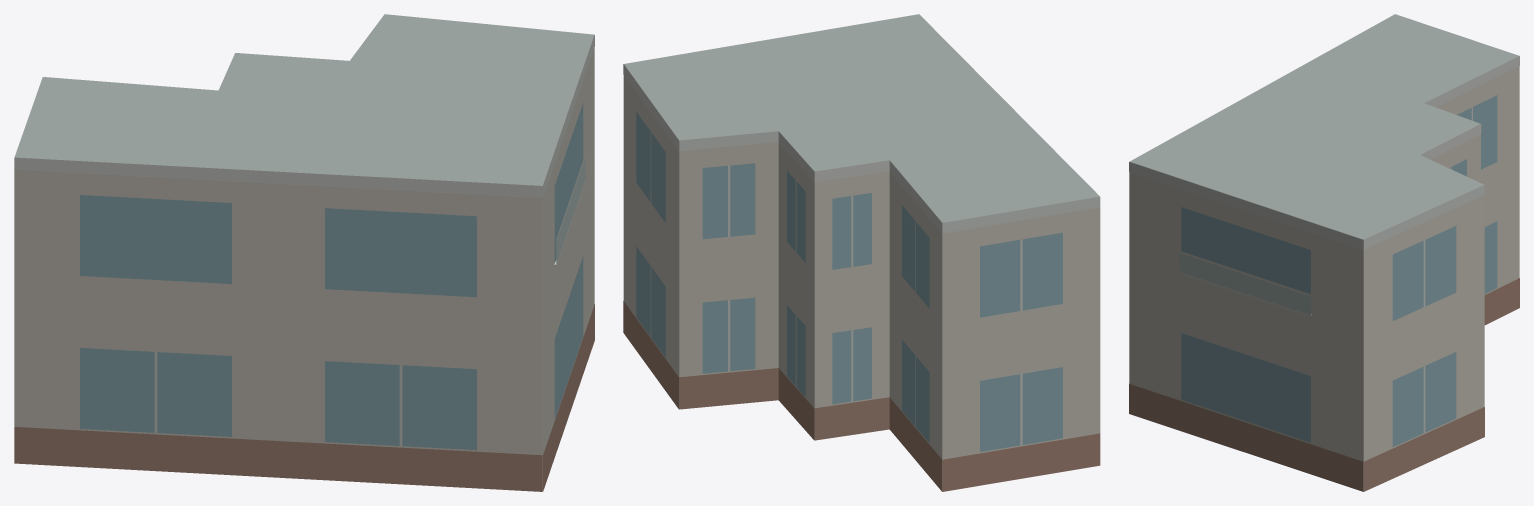
The model's file is survey-upis-32819702.glb.
The picture shows the model from 3 angles, left to right: view 1: azimuth 30°, elevation 25°; view 2: azimuth 150°, elevation 25°; view 3: azimuth 270°, elevation 25°; orthographic projection. The views are drawn at different scales.
Parts seen in each view (by area): view 1: survey-upis-32819702.tmp; view 2: survey-upis-32819702.tmp; view 3: survey-upis-32819702.tmp.
Part boxes in pixels (x1,y1,x2,y2): survey-upis-32819702.tmp: (14,14,594,491); survey-upis-32819702.tmp: (623,14,1100,491); survey-upis-32819702.tmp: (1129,14,1519,491).
Size of the model in its own units: 11.72 by 6.1 by 8.57.
